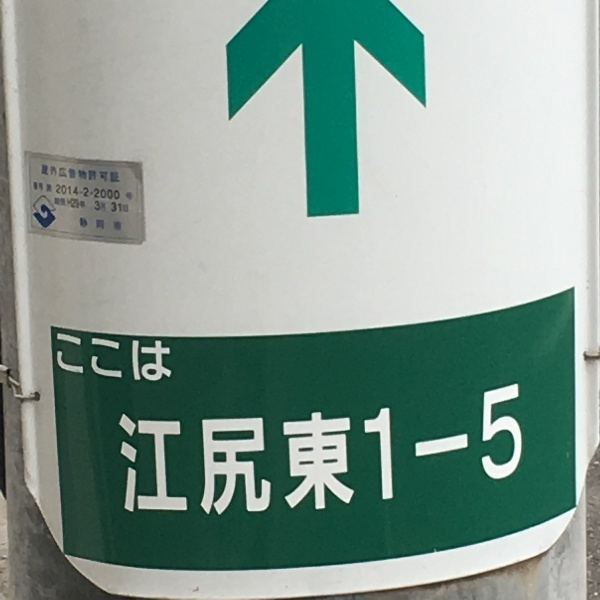text: (129, 383, 144, 526), (145, 383, 160, 526), (161, 383, 176, 526), (177, 383, 192, 526), (193, 383, 208, 526), (209, 383, 224, 526), (225, 383, 240, 526), (241, 383, 256, 526), (257, 383, 272, 526), (273, 383, 288, 526), (289, 383, 304, 526), (305, 383, 320, 526), (321, 383, 336, 526), (337, 383, 352, 526), (353, 383, 368, 526), (369, 383, 384, 526), (385, 383, 400, 526), (401, 383, 416, 526), (417, 383, 432, 526), (433, 383, 448, 526), (449, 383, 464, 526), (465, 383, 480, 526), (481, 383, 496, 526), (497, 383, 512, 526), (513, 383, 527, 526), (118, 383, 128, 526), (65, 333, 80, 385), (81, 333, 96, 385), (97, 333, 112, 385), (113, 333, 128, 385), (129, 333, 144, 385), (145, 333, 160, 385), (161, 333, 173, 385), (57, 333, 64, 385), (65, 184, 80, 202), (81, 184, 96, 202), (97, 184, 112, 202), (49, 164, 64, 180), (65, 164, 80, 180), (97, 201, 112, 215), (113, 201, 128, 215), (81, 217, 96, 231), (97, 217, 112, 231), (97, 170, 112, 183), (65, 197, 80, 209), (33, 182, 48, 193), (57, 184, 64, 202), (113, 184, 120, 202), (113, 217, 121, 231), (55, 197, 64, 209), (88, 170, 96, 183), (81, 164, 87, 180), (113, 170, 120, 183), (43, 164, 48, 180), (81, 197, 85, 209), (49, 182, 52, 193), (95, 201, 96, 215)
